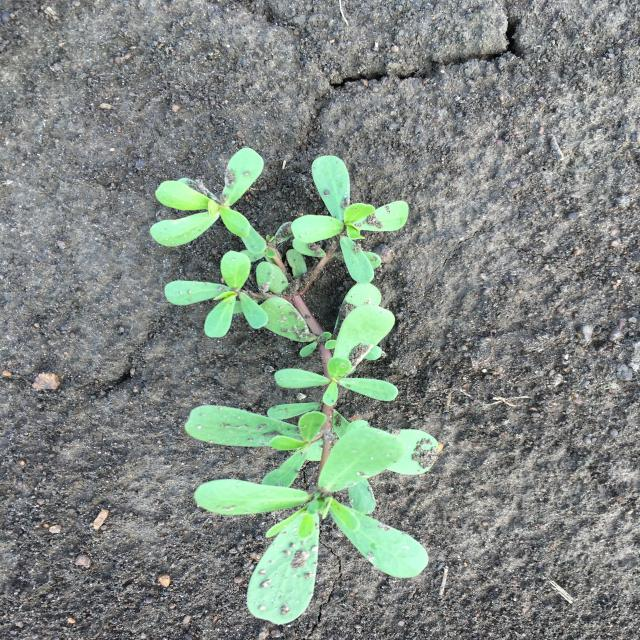Purslane: (149, 148, 439, 624)
